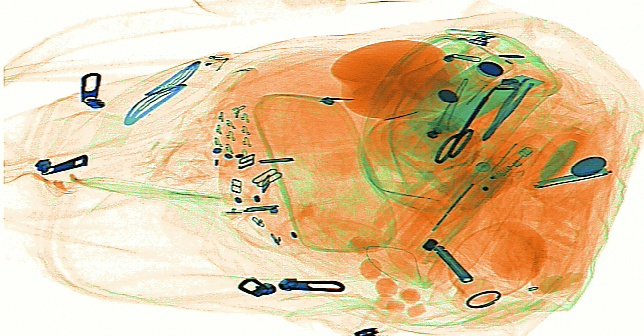scissors: (434, 81, 502, 163)
